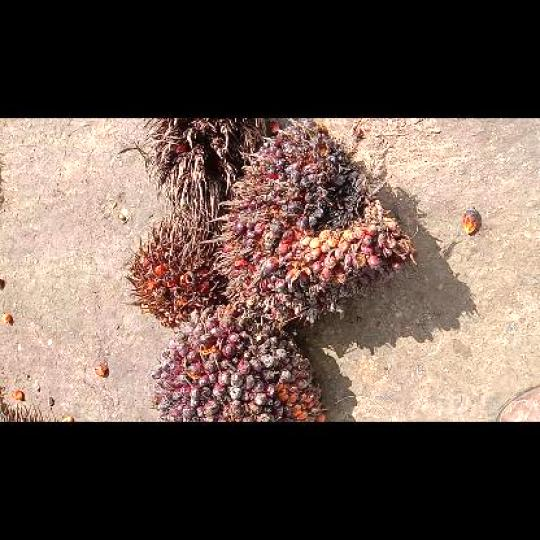kurang masak: (149, 302, 331, 420)
masak: (204, 120, 422, 332)
terlalu masak: (118, 216, 225, 327)
